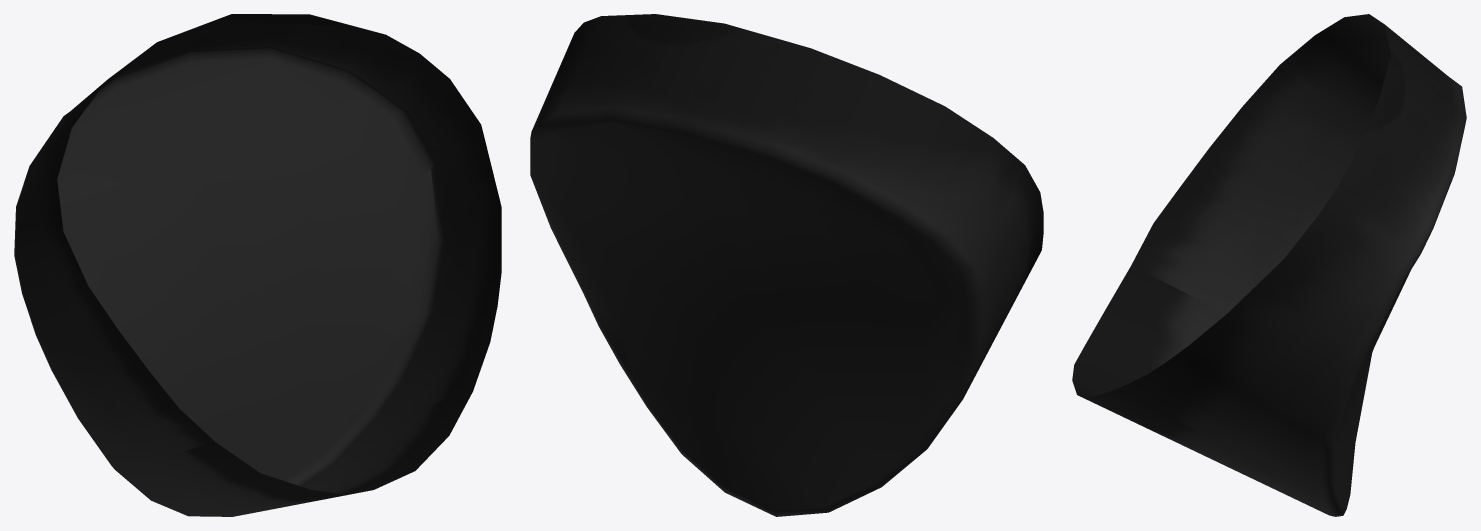
The model's file is RTrigger.obj.
3 views of the same model, side by side, from view 1: azimuth 30°, elevation 25°; view 2: azimuth 150°, elevation 25°; view 3: azimuth 270°, elevation 25° (orthographic). The views are drawn at different scales.
Visible parts, largest first — view 1: RTrigger; view 2: RTrigger; view 3: RTrigger.
Part boxes in pixels (x1,y1,x2,y2): RTrigger: [14, 14, 501, 516]; RTrigger: [530, 14, 1043, 516]; RTrigger: [1072, 14, 1466, 516].
Bounding box in the file's own units: 0.0288 × 0.0312 × 0.0243.
1 material, 1 textured.
